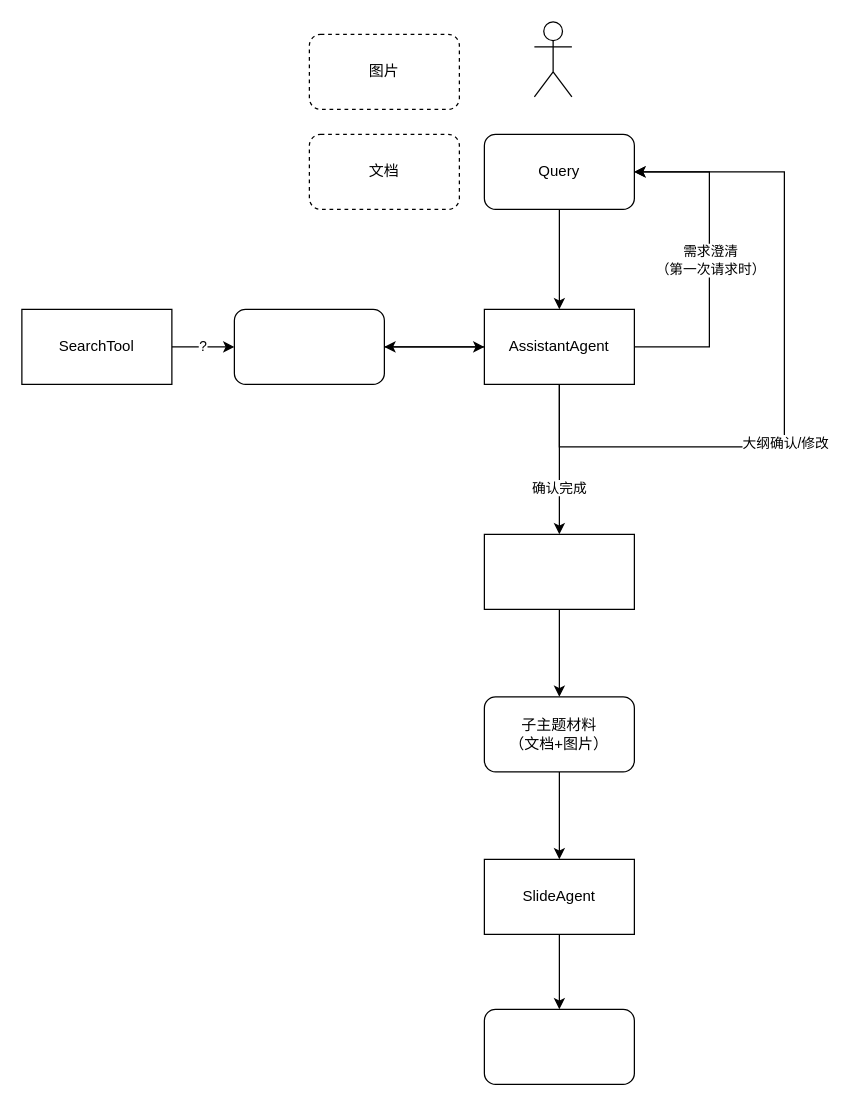
This 850x1106 diagram has some shape labels left out. Each missing label, with the centre of its shape:
ResearchAgent: point (558, 571)
大纲Agent （主题 + 子主题）: point (308, 346)
最终 PPT: point (558, 1046)
用户: point (552, 59)
